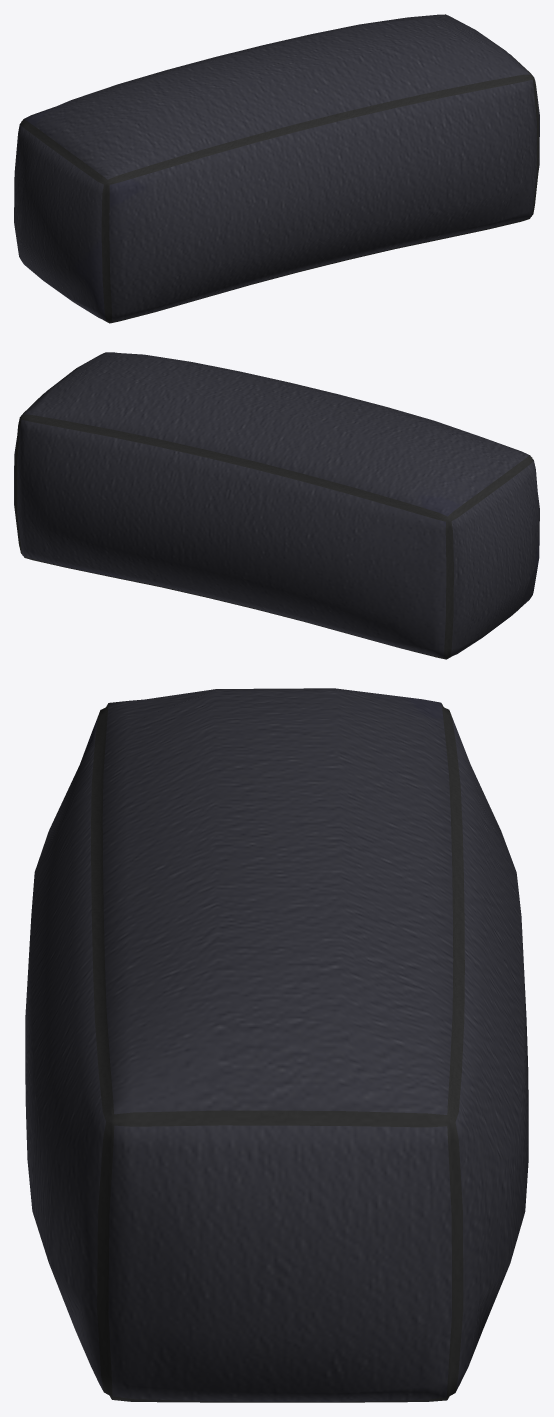
Rendered from LongPillow_SD.fbx.
The picture shows the model from 3 angles, top to bottom: view 1: azimuth 30°, elevation 25°; view 2: azimuth 150°, elevation 25°; view 3: azimuth 270°, elevation 25°; orthographic projection. The views are drawn at different scales.
Parts seen in each view (by area): view 1: Pillow; view 2: Pillow; view 3: Pillow.
Boxes of the visible parts, bbox=[...] form: Pillow: bbox=[14, 14, 539, 323]; Pillow: bbox=[14, 352, 539, 659]; Pillow: bbox=[25, 688, 528, 1402].
Bounding box in the file's own units: 3400 × 1236 × 1558.
